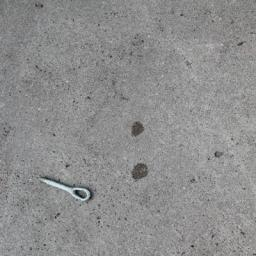FOD: (38, 176, 94, 206)
